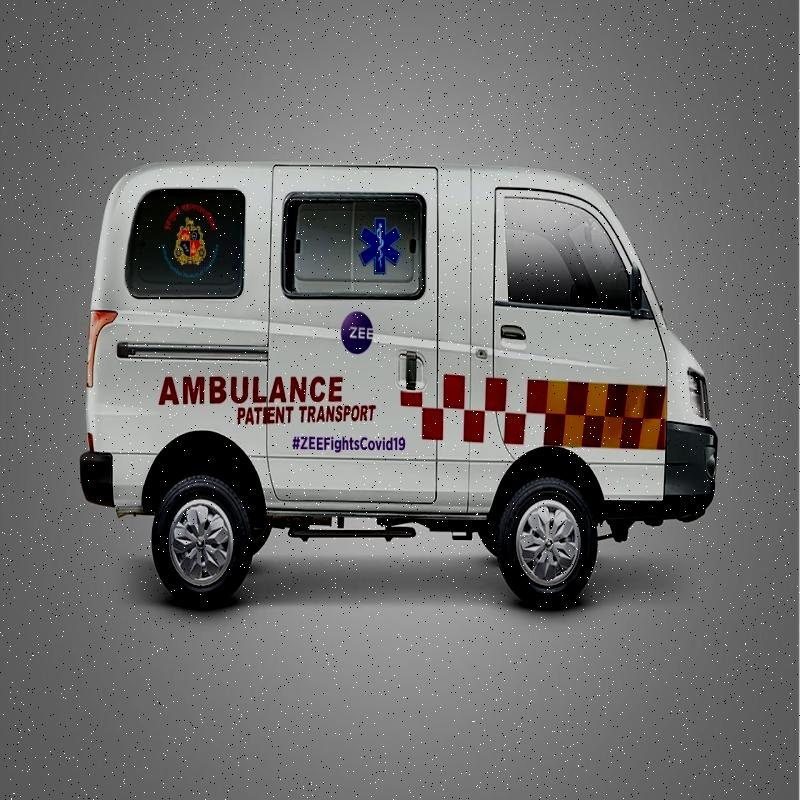ambulance: (61, 106, 715, 644)
